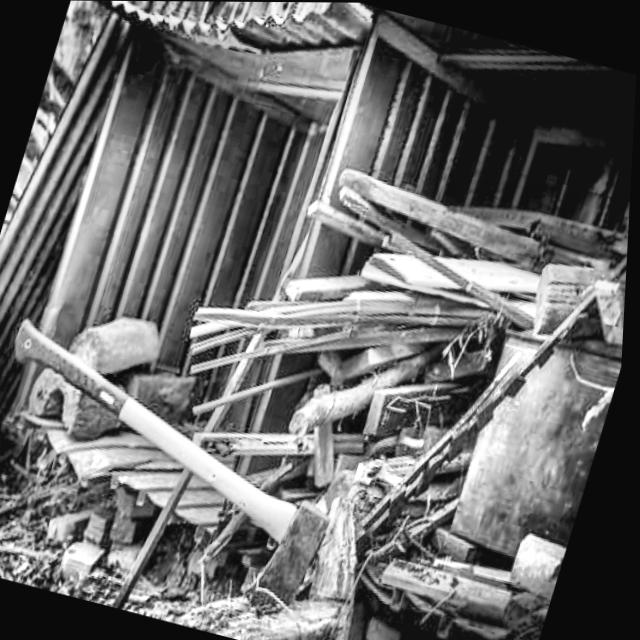kapak: (8, 317, 337, 632)
